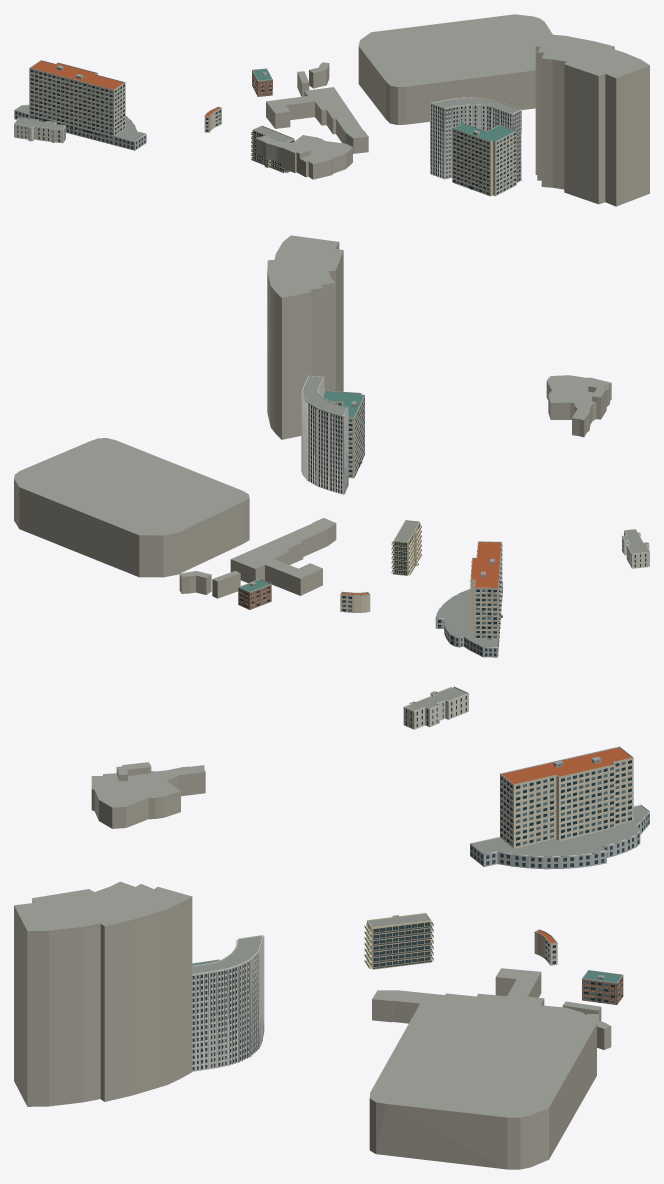
Rendered from zone_3_2-medium.glb.
3 renders of one model, top to bottom at view 1: azimuth 30°, elevation 25°; view 2: azimuth 150°, elevation 25°; view 3: azimuth 270°, elevation 25°, orthographic. The views are drawn at different scales.
Visible parts, largest first — view 1: web_building_185253514, web_building_1080920665, web_building_923320416, web_building_185266978, web_building_185266979, web_building_519120430, web_building_751059032, web_building_135156233, web_building_135313705, web_building_134819423, web_building_545777838, web_building_519120429 (+2 smaller); view 2: web_building_1080920665, web_building_185253514, web_building_185266979, web_building_519120430, web_building_923320416, web_building_751059032, web_building_135156233, web_building_185266978, web_building_134819423, web_building_135313705, web_building_545777838, web_building_519120429 (+2 smaller); view 3: web_building_185253514, web_building_1080920665, web_building_923320416, web_building_185266979, web_building_751059032, web_building_135156233, web_building_134819423, web_building_519120430, web_building_135313705, web_building_545777838.
Part boxes in pixels (<box>): web_building_185253514: <box>535,34,649,206</box>; web_building_1080920665: <box>358,14,552,124</box>; web_building_923320416: <box>29,60,125,139</box>; web_building_185266978: <box>452,120,516,196</box>; web_building_185266979: <box>430,97,521,182</box>; web_building_519120430: <box>266,87,368,153</box>; web_building_751059032: <box>255,135,352,179</box>; web_building_135156233: <box>14,104,146,150</box>; web_building_135313705: <box>14,117,66,143</box>; web_building_134819423: <box>251,125,294,173</box>; web_building_545777838: <box>252,68,272,96</box>; web_building_519120429: <box>309,62,329,88</box>; web_building_1080920665: <box>14,438,249,577</box>; web_building_185253514: <box>267,235,343,439</box>; web_building_185266979: <box>301,375,348,494</box>; web_building_519120430: <box>230,518,336,595</box>; web_building_923320416: <box>470,541,502,641</box>; web_building_751059032: <box>546,375,611,437</box>; web_building_135156233: <box>435,581,502,657</box>; web_building_185266978: <box>323,390,364,478</box>; web_building_134819423: <box>391,520,421,575</box>; web_building_135313705: <box>621,529,649,568</box>; web_building_545777838: <box>238,578,271,609</box>; web_building_519120429: <box>179,571,211,594</box>; web_building_185253514: <box>14,881,192,1106</box>; web_building_1080920665: <box>369,996,596,1169</box>; web_building_923320416: <box>499,746,633,848</box>; web_building_185266979: <box>192,935,264,1071</box>; web_building_751059032: <box>91,765,205,828</box>; web_building_135156233: <box>470,804,649,869</box>; web_building_134819423: <box>364,913,433,969</box>; web_building_519120430: <box>372,968,544,1023</box>; web_building_135313705: <box>403,686,469,729</box>; web_building_545777838: <box>581,970,623,1004</box>.
Bounding box in the file's own units: 461 × 113 × 337.
